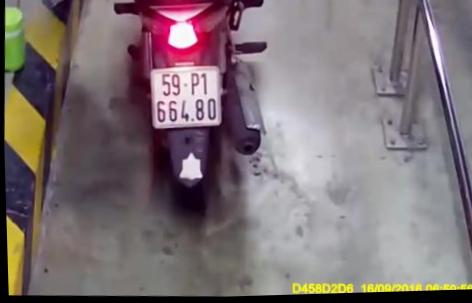LP: (146, 62, 225, 133)
